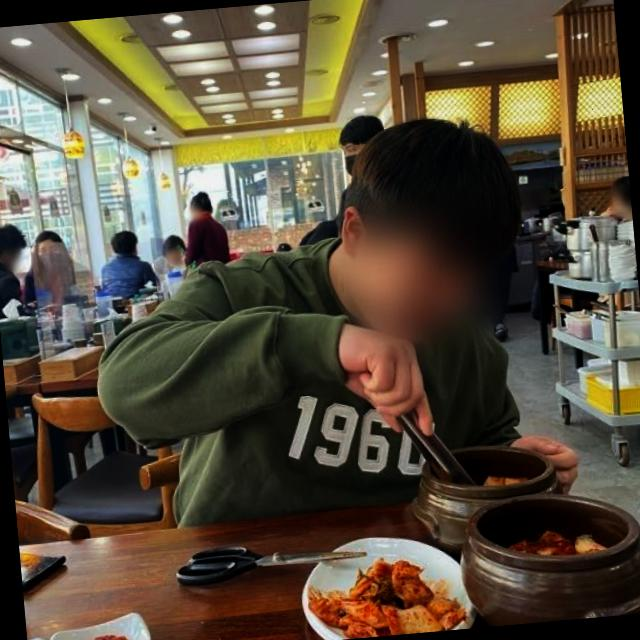mtm: (79, 221, 534, 518)
